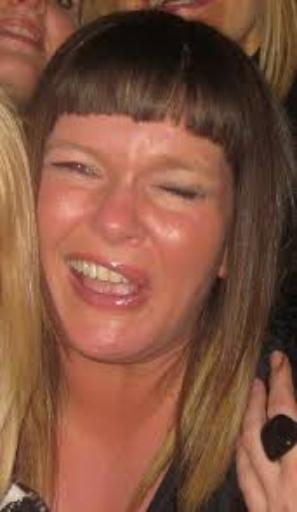left_eye: (148, 177, 206, 207)
left_lip_corner: (142, 272, 158, 305)
right_eye: (54, 157, 105, 184)
right_lip_corner: (58, 251, 77, 270)
